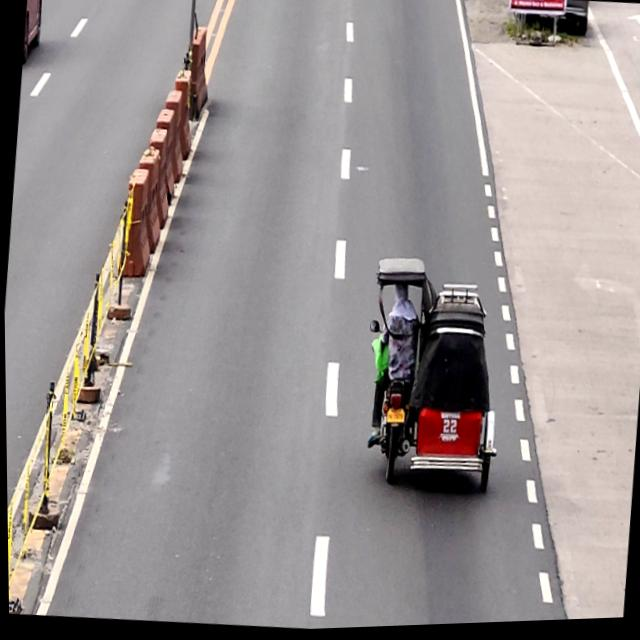License-Plate: (383, 409, 404, 429)
Tricycle: (355, 253, 512, 506)
